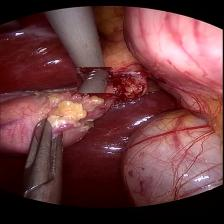Grasper: (20, 115, 76, 203)
Irrigator: (77, 66, 113, 92)
